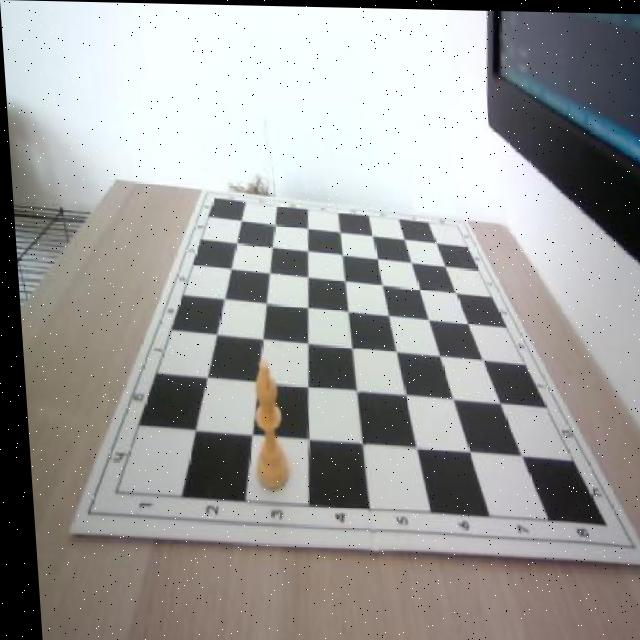black-rook: (243, 359, 285, 489)
